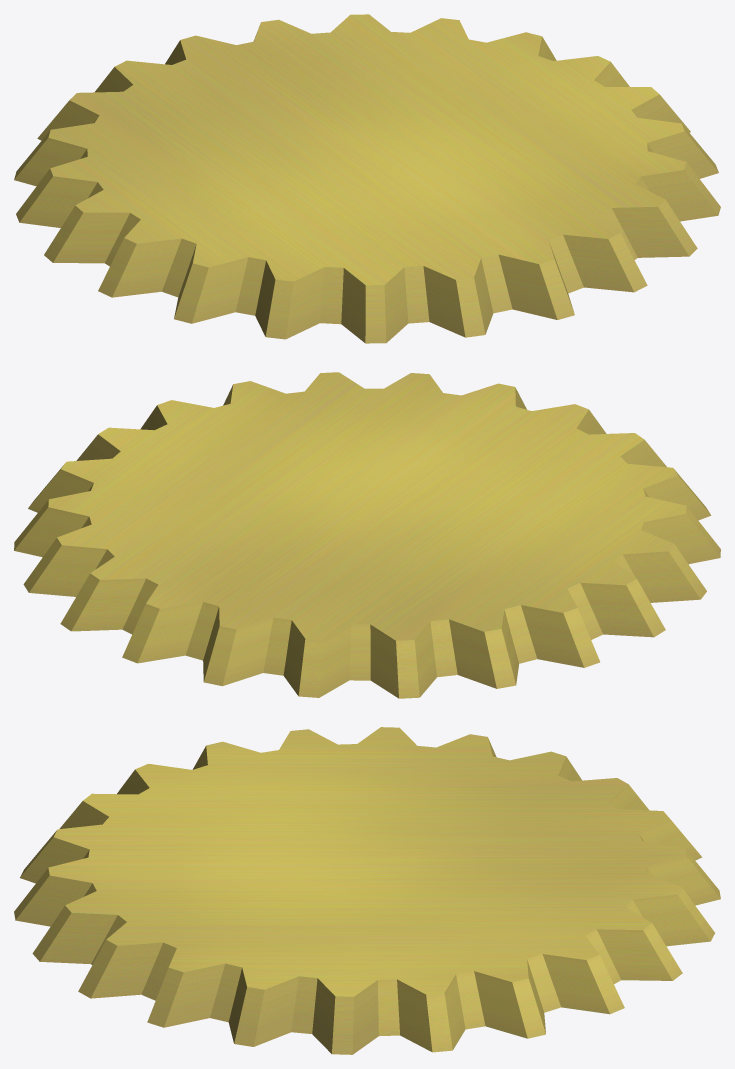
Rendered from CogBevel022.fbx.
3 renders of one model, top to bottom at view 1: azimuth 30°, elevation 25°; view 2: azimuth 150°, elevation 25°; view 3: azimuth 270°, elevation 25°, orthographic.
Visible parts, largest first — view 1: CogBevel022; view 2: CogBevel022; view 3: CogBevel022.
Part boxes in pixels (x1=…): CogBevel022: x1=14, y1=14, x2=720, y2=343; CogBevel022: x1=14, y1=372, x2=720, y2=698; CogBevel022: x1=14, y1=727, x2=720, y2=1054.
Bounding box in the file's own units: 215 × 14.59 × 215.
